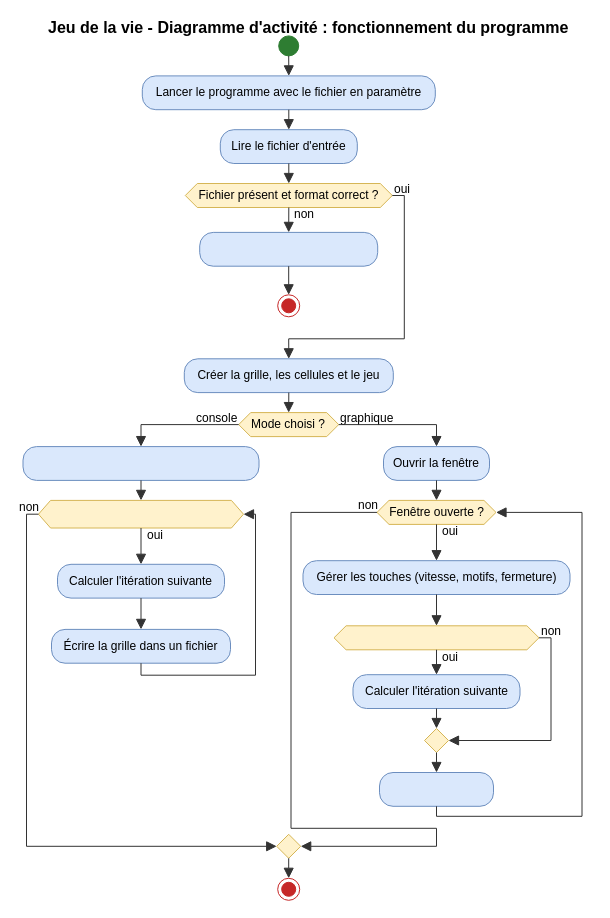
Some shapes in this 610 by 918 pixel diagram are drawn without their labels. Each missing label, with the centre of its shape:
Afficher un message d'erreur: (288,248)
Créer le dossier <nom_du_fichier>_out: (140,463)
Dessiner la grille: (436,789)
Délai écoulé et jeu non terminé ?: (436,637)
Jeu non terminé ? (itérations < n et grille qui évolue): (141,513)
